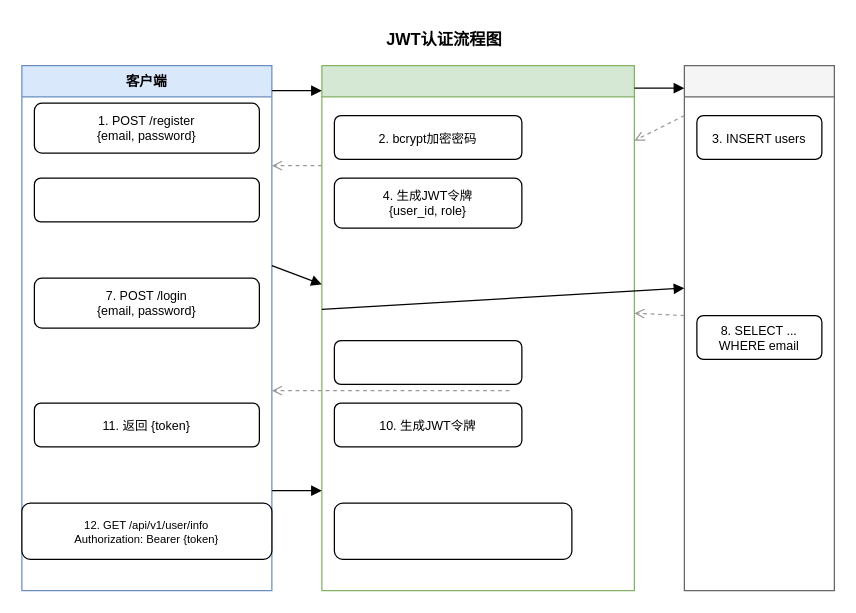
This 856x613 diagram has some shape labels left out. The box of each missing label's shape, as (x1, y1, x2, y2) in pixels:
13. AuthMiddleware验证 → 注入user_id, role到Context: (333, 502, 572, 559)
5. 返回 {token}: (33, 177, 259, 222)
9. bcrypt比较密码: (333, 339, 522, 384)
数据库: (683, 64, 834, 591)
服务器端: (321, 64, 634, 591)
